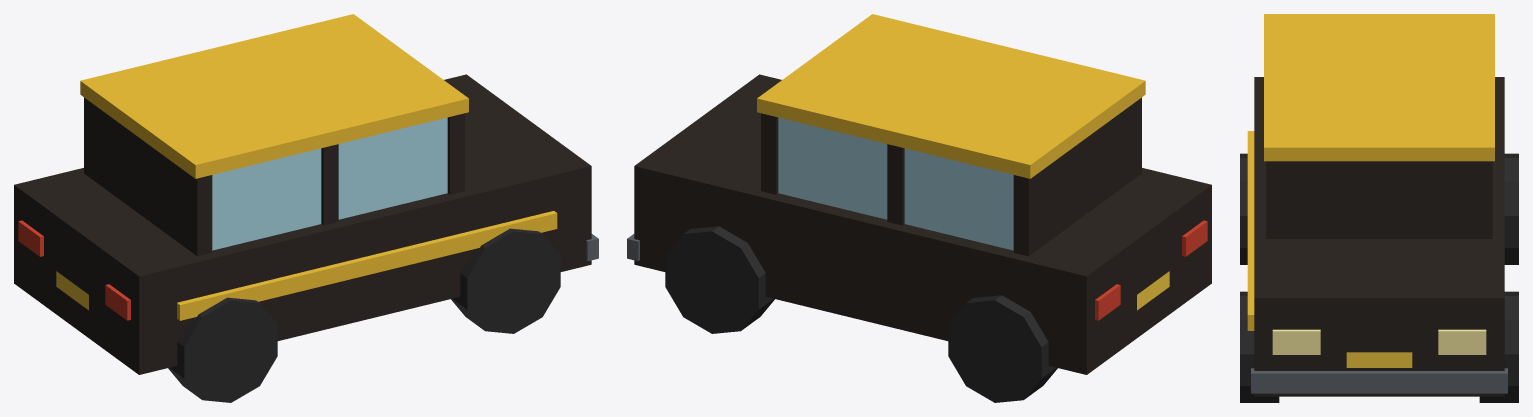
The model's file is car_taxi.glb.
3 renders of one model, left to right at view 1: azimuth 30°, elevation 25°; view 2: azimuth 150°, elevation 25°; view 3: azimuth 270°, elevation 25°, orthographic.
Parts seen in each view (by area): view 1: car_taxi; view 2: car_taxi; view 3: car_taxi.
Boxes of the visible parts, x1=… form: car_taxi: x1=14, y1=14, x2=598, y2=402; car_taxi: x1=627, y1=14, x2=1211, y2=402; car_taxi: x1=1240, y1=14, x2=1518, y2=402.
Bounding box in the file's own units: 2.45 × 1.19 × 1.28.
Materials: 1 (1 with a texture image).
